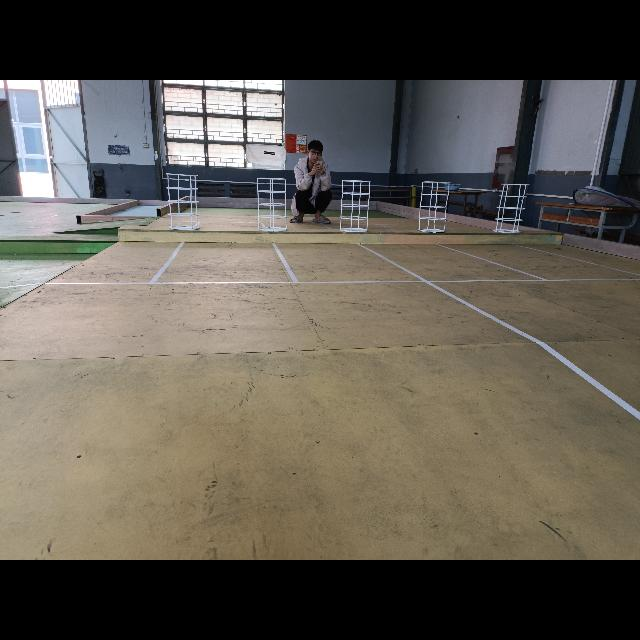S: (166, 170, 200, 232), (338, 178, 372, 234), (417, 180, 451, 236), (494, 182, 530, 234), (257, 175, 289, 232)
